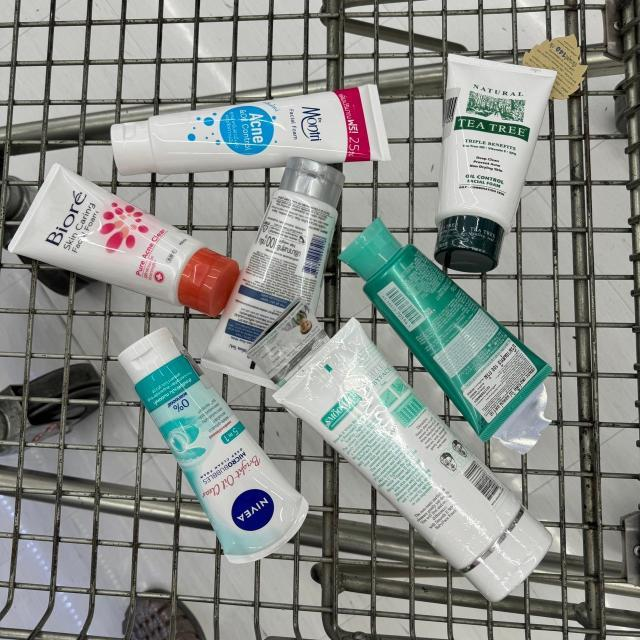Squeeze Tube: (268, 316, 562, 612), (330, 214, 567, 453), (108, 323, 316, 567), (0, 160, 243, 317), (199, 156, 351, 396), (430, 47, 565, 278), (102, 79, 395, 183)
